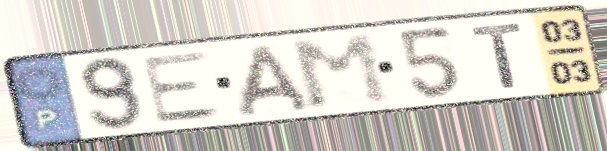5: (395, 22, 465, 103)
9: (74, 54, 148, 134)
A: (233, 41, 317, 120)
E: (139, 48, 228, 127)
M: (285, 31, 397, 114)
T: (467, 19, 528, 91)
